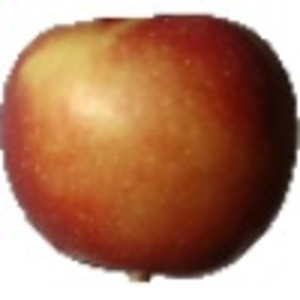maçã braeburn: (1, 9, 299, 276)
